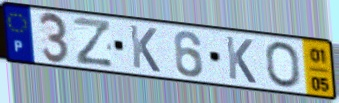3: (37, 10, 70, 66)
6: (172, 29, 205, 78)
K: (128, 23, 163, 75), (224, 34, 259, 86)
O: (264, 40, 303, 90)
Z: (71, 15, 116, 69)
